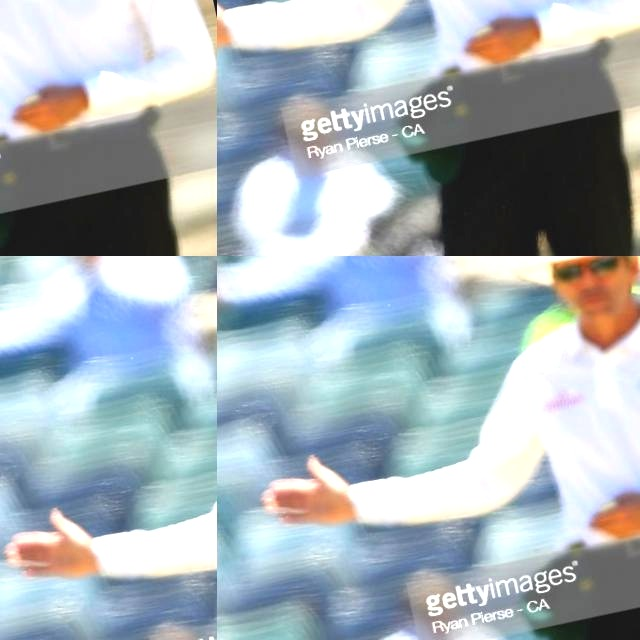No_Ball: (217, 256, 640, 640)
Out: (0, 0, 87, 105)
Wide: (217, 0, 640, 256), (0, 256, 217, 603)
